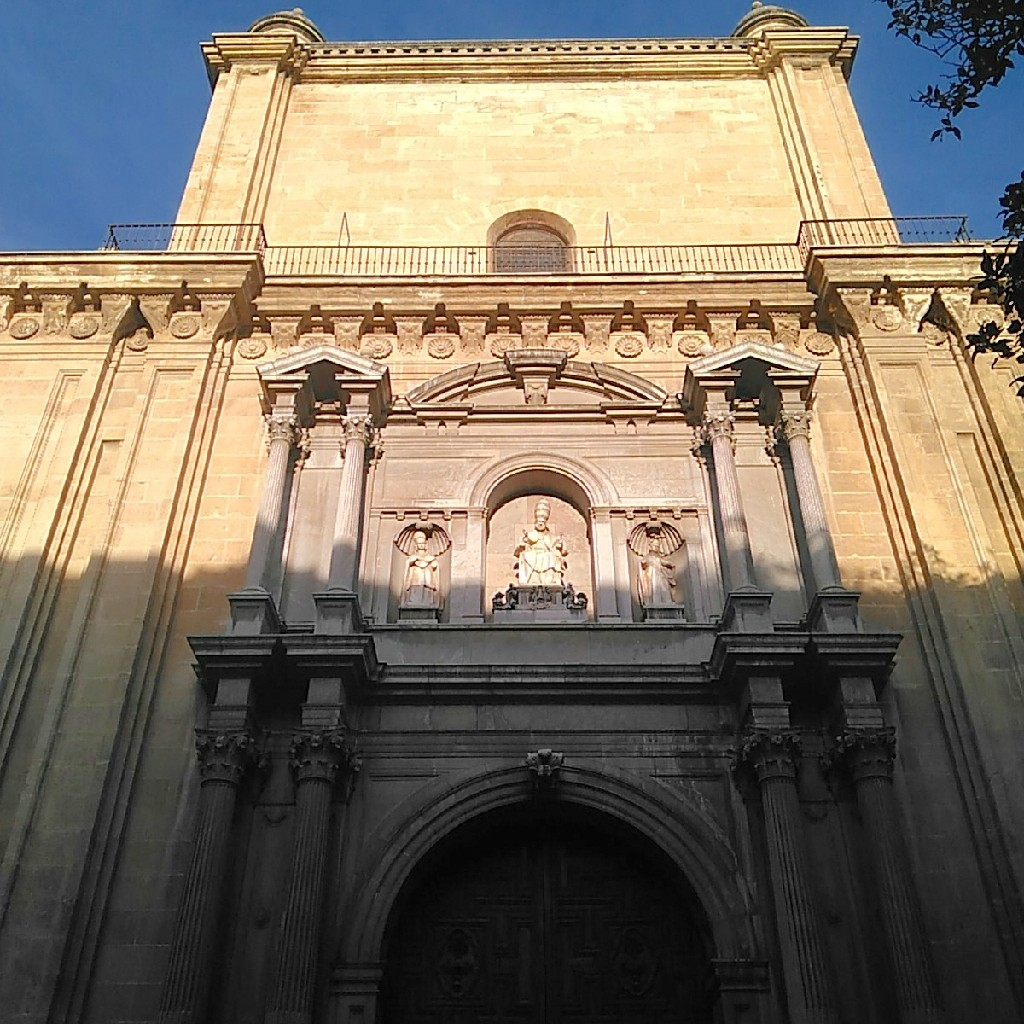arco-medio-punto: (356, 780, 738, 1010), (476, 456, 609, 540)
fronton-curvo: (410, 353, 681, 425)
fronton-partido: (254, 345, 385, 395), (681, 340, 810, 387)
serliana: (346, 464, 718, 624)
